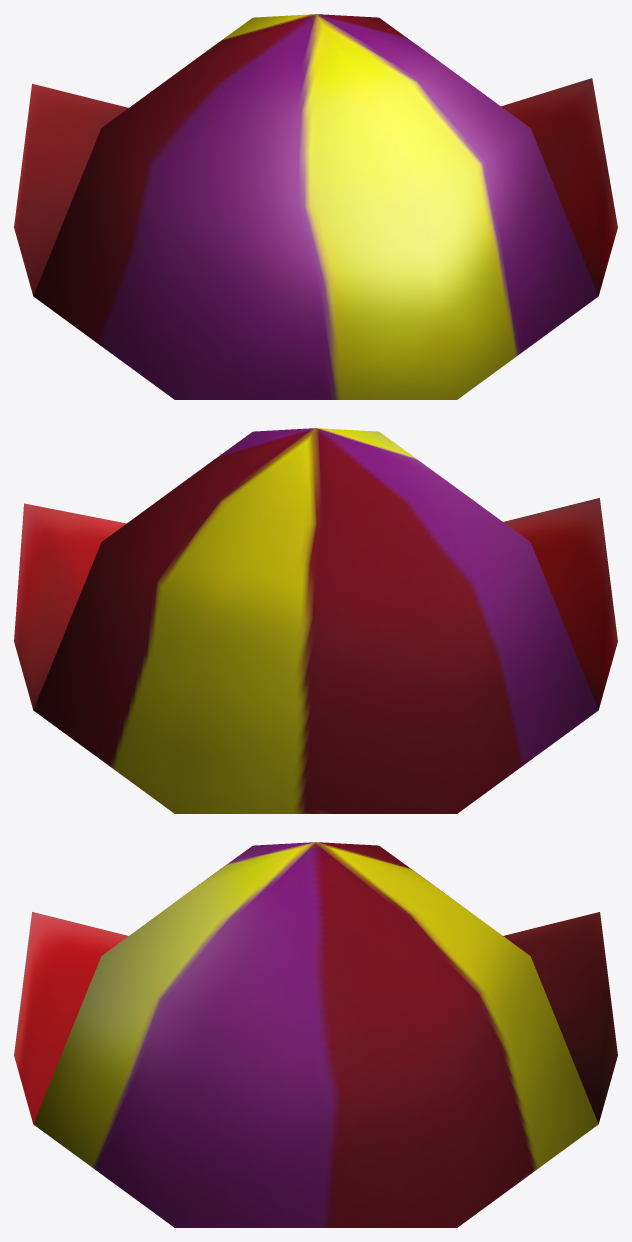
Rendered from tt_m_chr_avt_acc_hat_jugheadHat.glb.
3 views of the same model, one above another, from view 1: azimuth 30°, elevation 25°; view 2: azimuth 150°, elevation 25°; view 3: azimuth 270°, elevation 25° (orthographic).
Visible parts, largest first — view 1: tt_m_chr_avt_acc_hat_jugheadhat; view 2: tt_m_chr_avt_acc_hat_jugheadhat; view 3: tt_m_chr_avt_acc_hat_jugheadhat.
Boxes of the visible parts, bbox=[...] form: tt_m_chr_avt_acc_hat_jugheadhat: bbox=[14, 14, 617, 399]; tt_m_chr_avt_acc_hat_jugheadhat: bbox=[14, 428, 617, 813]; tt_m_chr_avt_acc_hat_jugheadhat: bbox=[14, 842, 617, 1227].
Size of the model in its own units: 5.41 by 2.57 by 4.99.
1 material, 1 textured.
